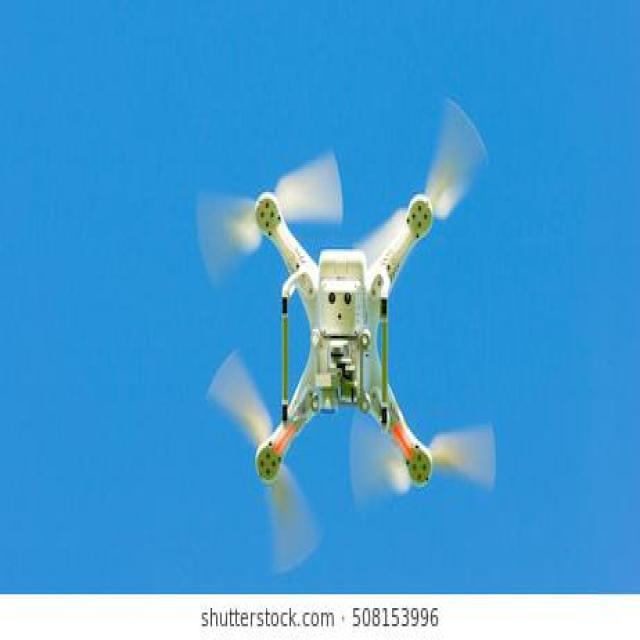drone: (0, 281, 640, 640)
